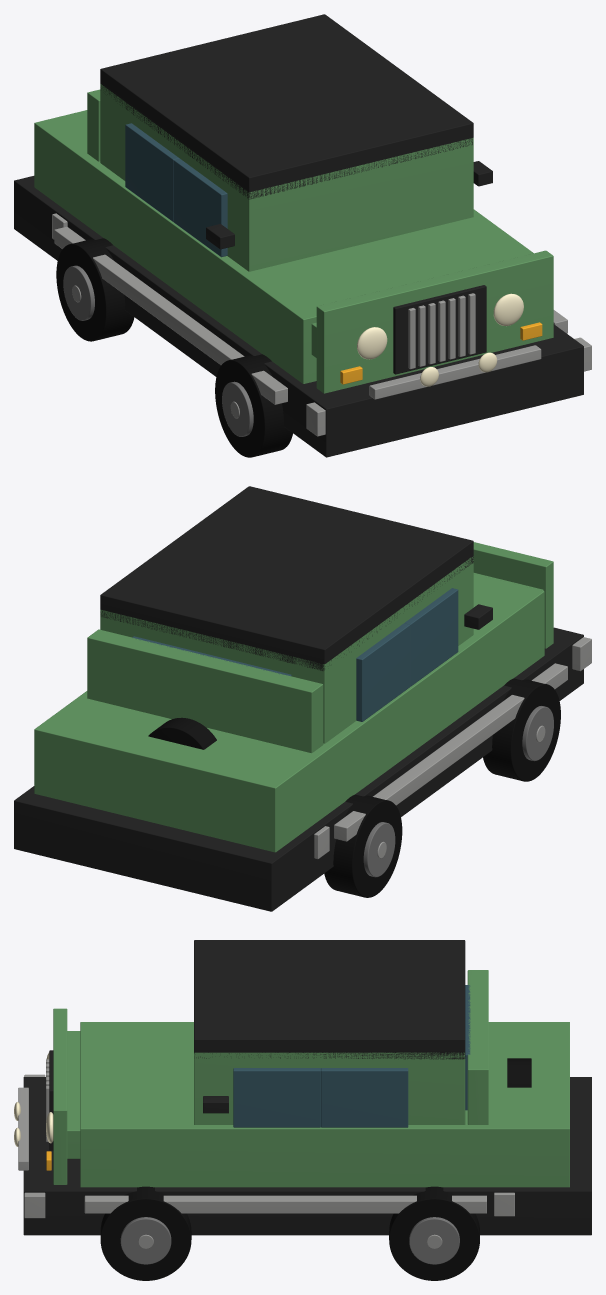
File: CarroJeep.fbx
3 views of the same model, one above another, from view 1: azimuth 30°, elevation 25°; view 2: azimuth 150°, elevation 25°; view 3: azimuth 270°, elevation 25° (orthographic). The views are drawn at different scales.
Visible parts, largest first — view 1: Todoterreno_Estilo_Jeep_Wrangler; view 2: Todoterreno_Estilo_Jeep_Wrangler; view 3: Todoterreno_Estilo_Jeep_Wrangler.
Part boxes in pixels (x1=…): Todoterreno_Estilo_Jeep_Wrangler: x1=14, y1=14, x2=591, y2=457; Todoterreno_Estilo_Jeep_Wrangler: x1=14, y1=486, x2=591, y2=911; Todoterreno_Estilo_Jeep_Wrangler: x1=14, y1=940, x2=591, y2=1280.
Size of the model in its own units: 3.68 by 2.85 by 6.61.
